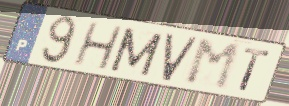9: (40, 14, 80, 66)
H: (70, 20, 125, 73)
M: (183, 38, 243, 92), (107, 25, 166, 79)
T: (237, 46, 273, 94)
V: (159, 32, 201, 84)
